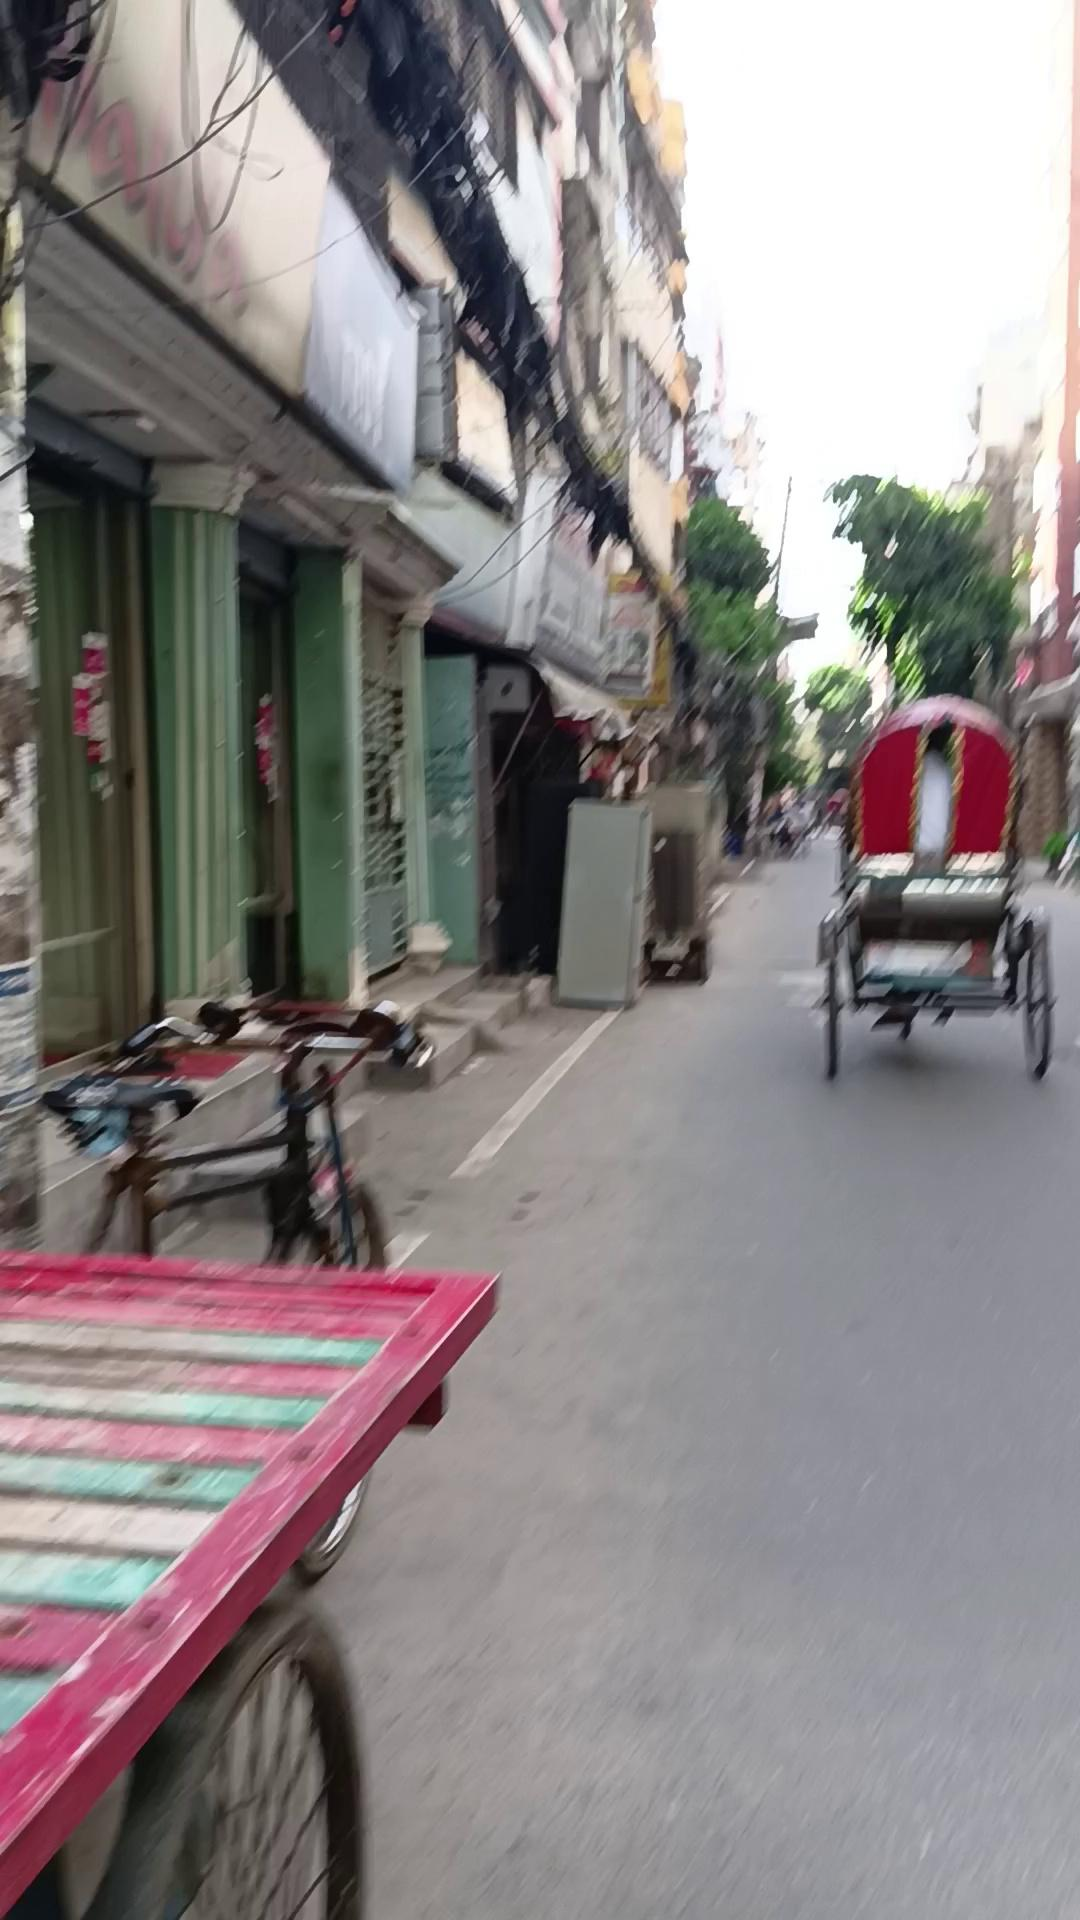Dog: (146, 501, 248, 1022)
Fence: (811, 692, 1057, 1083)
Light-pole: (822, 470, 1025, 724), (665, 491, 797, 853)
